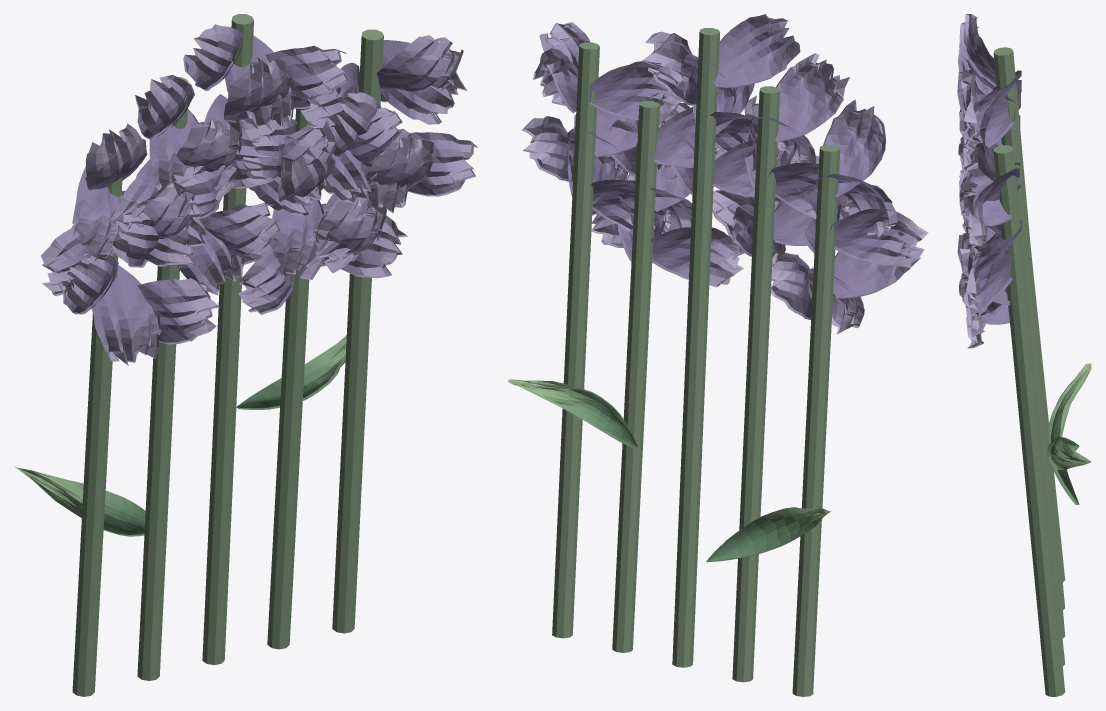
The model's file is lavanda.glb.
The picture shows the model from 3 angles, left to right: view 1: azimuth 30°, elevation 25°; view 2: azimuth 150°, elevation 25°; view 3: azimuth 270°, elevation 25°; orthographic projection. The views are drawn at different scales.
Visible parts, largest first — view 1: STELO_2, STELO_4, STELO_3, STELO_0, STELO_1, PETALO_002, PETALO_000, PETALO_037, PETALO_008, PETALO_021, PETALO_028, FOGLIA_BASE_1 (+35 smaller); view 2: STELO_2, STELO_4, STELO_1, STELO_3, STELO_0, PETALO_022, PETALO_014, PETALO_004, PETALO_038, PETALO_006, FOGLIA_BASE_1, PETALO_025 (+25 smaller); view 3: STELO_4, STELO_2, PETALO_034, PETALO_021, PETALO_037, FOGLIA_BASE_1, PETALO_022, PETALO_039, FOGLIA_BASE_2, PETALO_032, PETALO_036, PETALO_019 (+10 smaller).
Part boxes in pixels (x1,y1,x2,y2): STELO_2: (202,14,253,664); STELO_4: (332,29,383,633); STELO_3: (267,108,312,649); STELO_0: (72,177,122,696); STELO_1: (137,77,188,680); PETALO_002: (91,265,161,365); PETALO_000: (137,278,219,344); PETALO_037: (376,35,463,102); PETALO_008: (200,202,280,267); PETALO_021: (265,45,348,109); PETALO_028: (272,198,326,279); FOGLIA_BASE_1: (14,466,145,536); STELO_2: (672,28,720,667); STELO_4: (552,42,599,638); STELO_1: (732,86,780,682); STELO_3: (612,100,659,652); STELO_0: (792,144,840,696); PETALO_022: (712,14,800,87); PETALO_014: (774,53,849,142); PETALO_004: (830,208,928,267); PETALO_038: (589,61,682,121); PETALO_006: (818,99,885,196); FOGLIA_BASE_1: (706,507,831,562); PETALO_025: (651,227,744,287); STELO_4: (993,145,1065,696); STELO_2: (993,47,1065,638); PETALO_034: (963,253,1015,320); PETALO_021: (963,94,1015,157); PETALO_037: (959,162,1011,225); FOGLIA_BASE_1: (1048,363,1091,504); PETALO_022: (959,14,996,86); PETALO_039: (968,168,1019,246); FOGLIA_BASE_2: (1046,437,1091,469); PETALO_032: (957,226,1010,305); PETALO_036: (972,220,1021,283); PETALO_019: (957,70,1002,145).
Size of the model in its own units: 1.53 by 2.3 by 0.4671.
